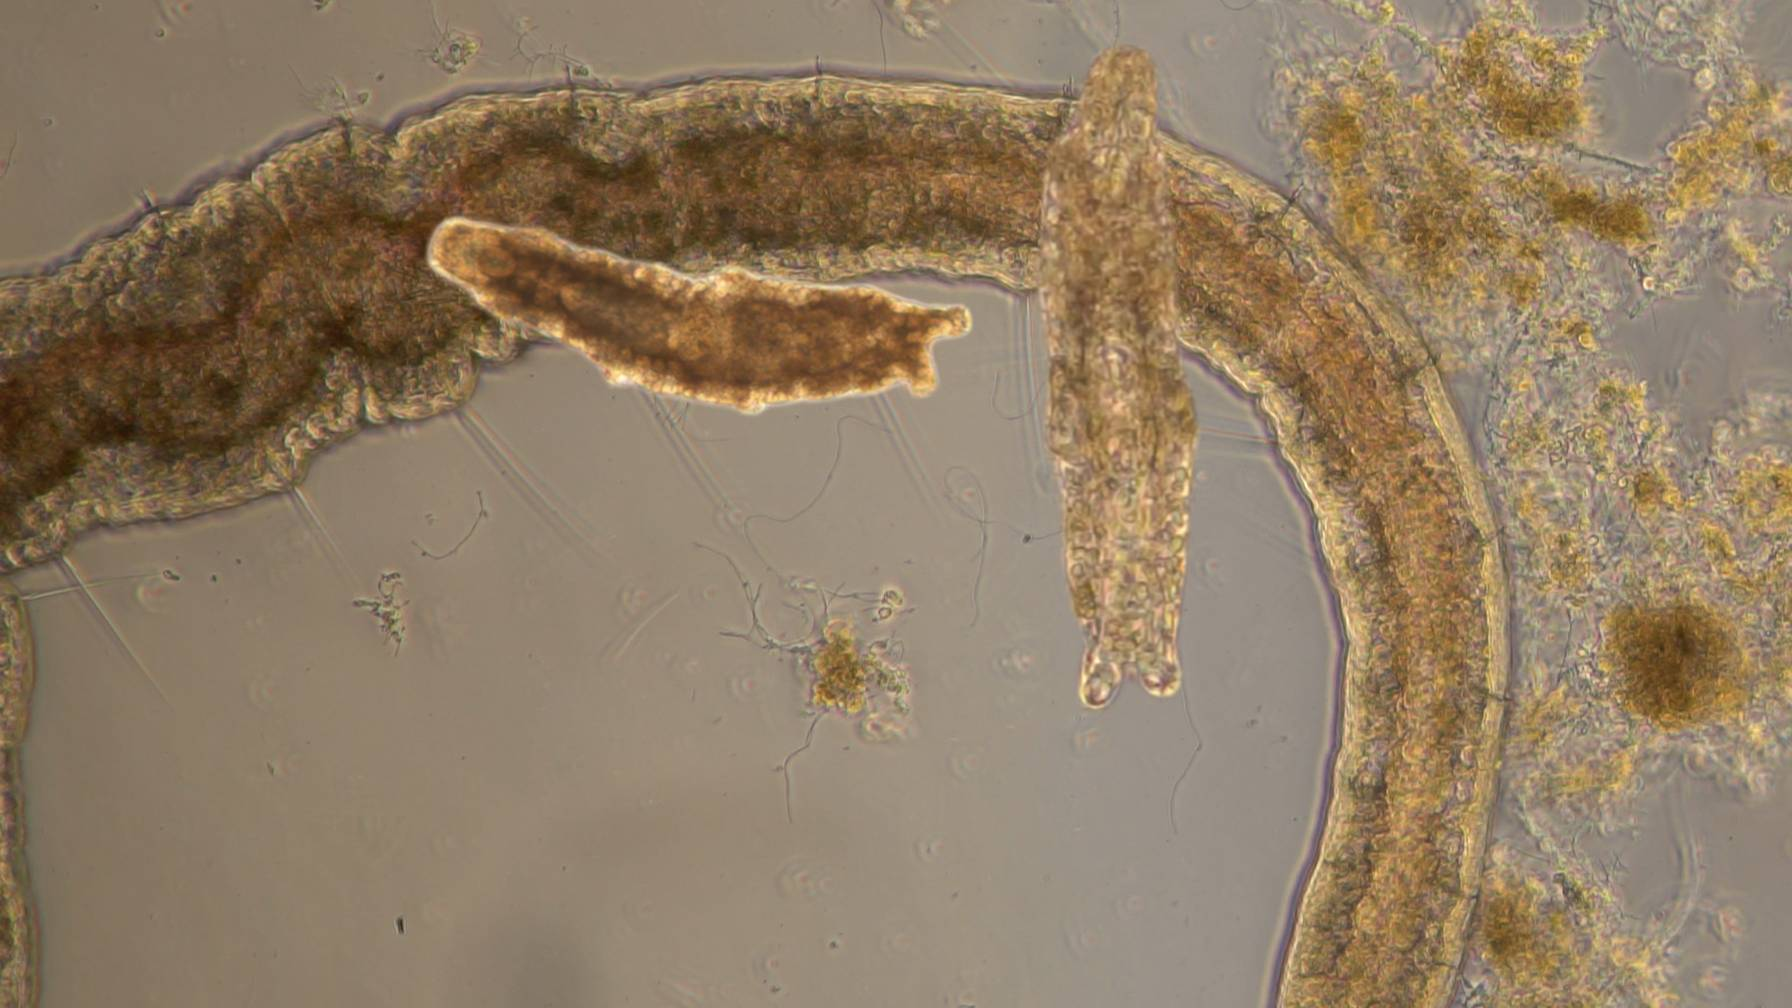Tardigrade: (1035, 47, 1196, 710), (428, 218, 971, 412)
